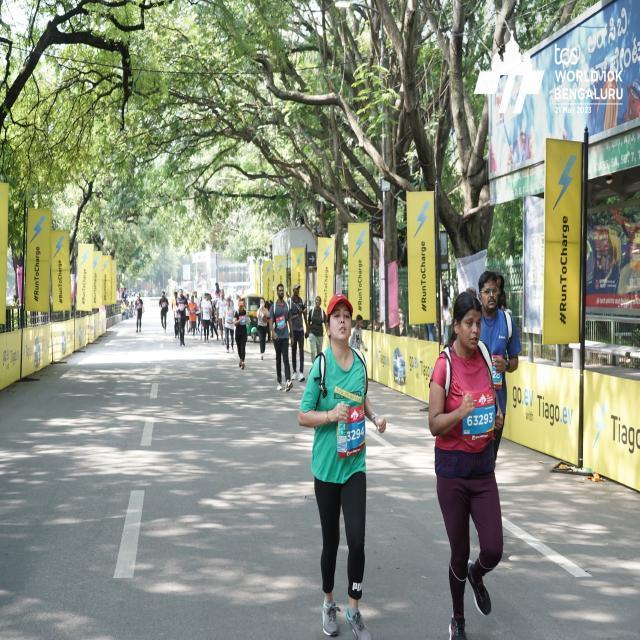dorsal: (462, 391, 494, 442), (336, 406, 368, 456)
